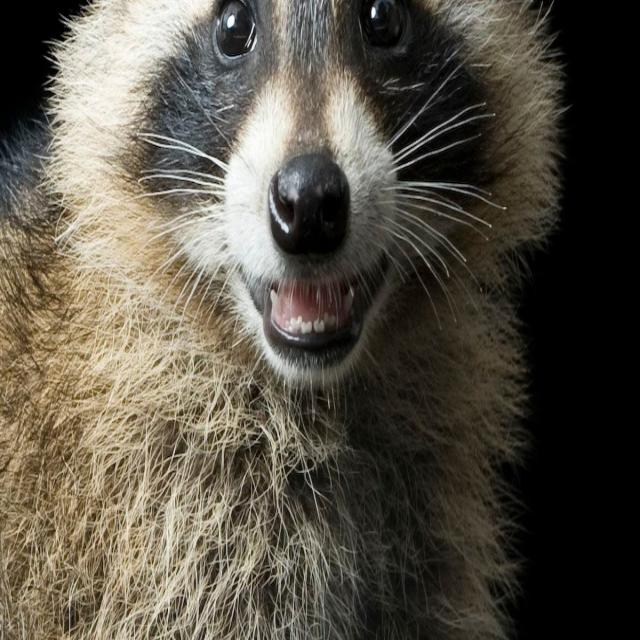Raccoon: (25, 0, 555, 640)
